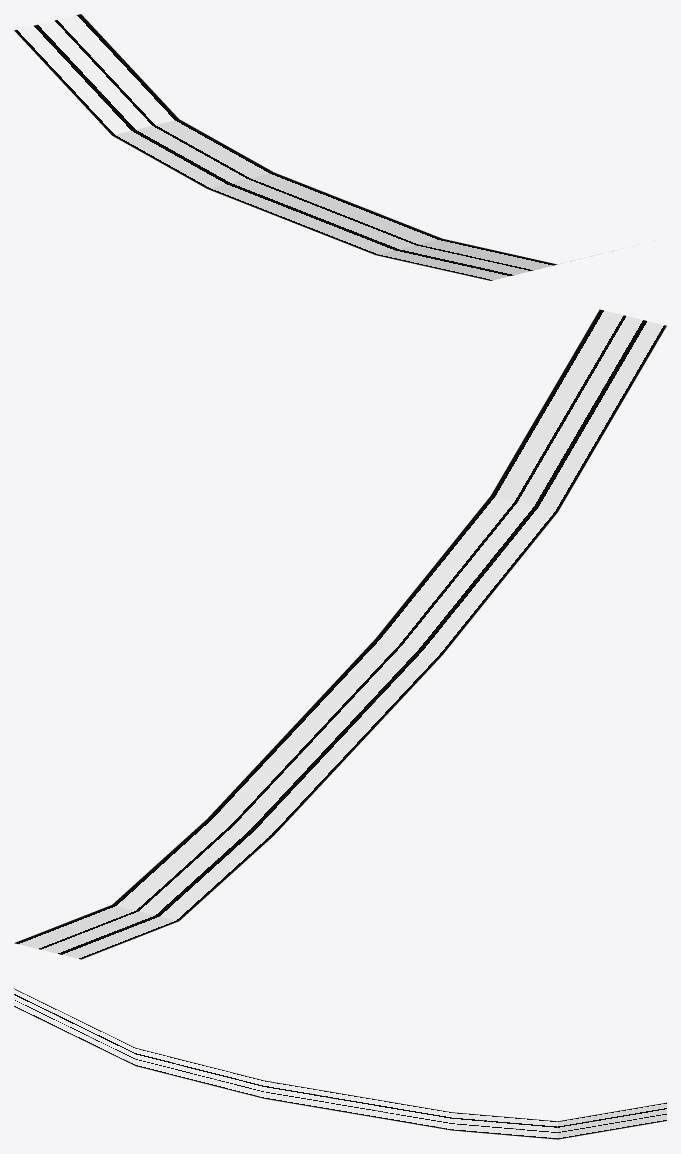
File: Kabel_Lichtleitung_Up_2599.glb
3 views of the same model, one above another, from view 1: azimuth 30°, elevation 25°; view 2: azimuth 150°, elevation 25°; view 3: azimuth 270°, elevation 25° (orthographic). The views are drawn at different scales.
Visible parts, largest first — view 1: pPlaneShape128; view 2: pPlaneShape128; view 3: pPlaneShape128.
Boxes of the visible parts, x1,y1,x2,y2 form: pPlaneShape128: [14, 14, 613, 280]; pPlaneShape128: [14, 309, 666, 959]; pPlaneShape128: [14, 988, 666, 1139].
Bounding box in the file's own units: 0.132 × 0.4472 × 1.99.
Materials: 1 (1 with a texture image).
